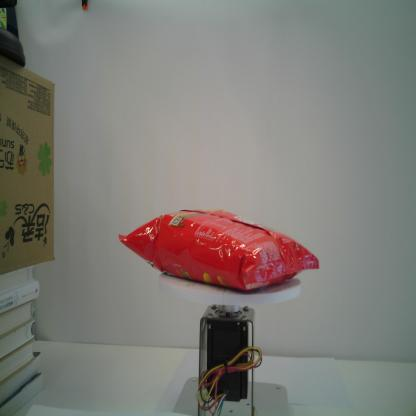Puffed Food: (117, 207, 321, 292)
